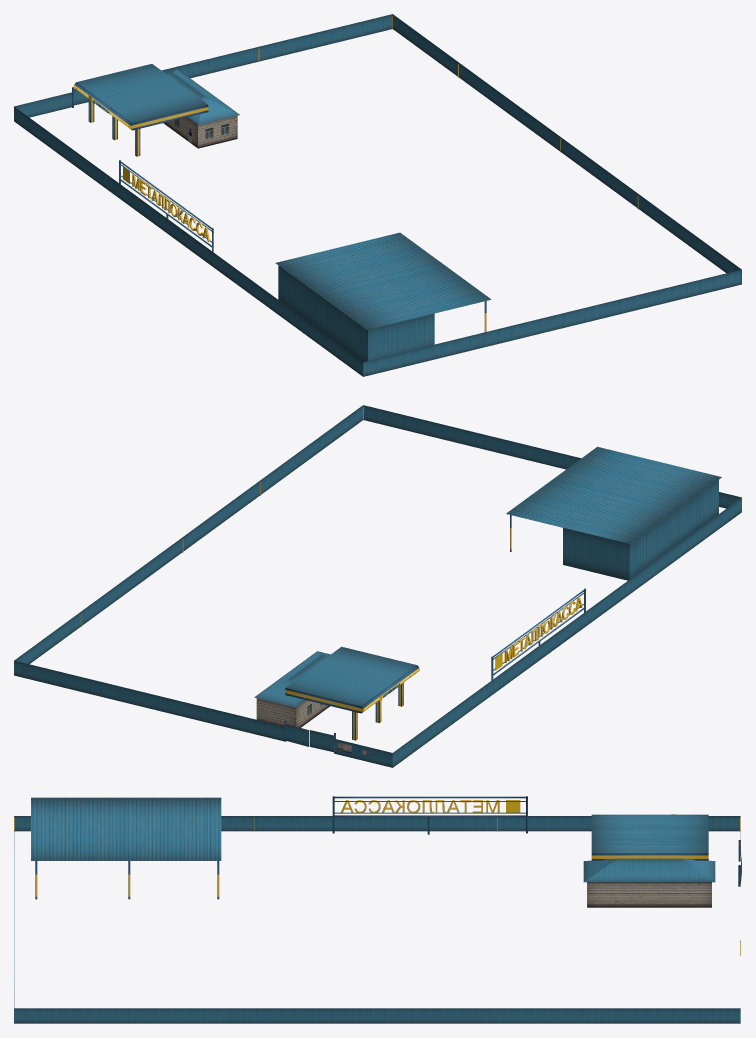
The model's file is omsk_metallokassa.FBX.
The picture shows the model from 3 angles, top to bottom: view 1: azimuth 30°, elevation 25°; view 2: azimuth 150°, elevation 25°; view 3: azimuth 270°, elevation 25°; orthographic projection. The views are drawn at different scales.
Parts seen in each view (by area): view 1: omsk_metallokassa; view 2: omsk_metallokassa; view 3: omsk_metallokassa.
Boxes of the visible parts, left/top/right/bottom form: omsk_metallokassa: left=14, top=14, right=741, bottom=376; omsk_metallokassa: left=14, top=405, right=741, bottom=767; omsk_metallokassa: left=14, top=796, right=741, bottom=1023.
Bounding box in the file's own units: 50.07 × 80.08 × 5.06.
